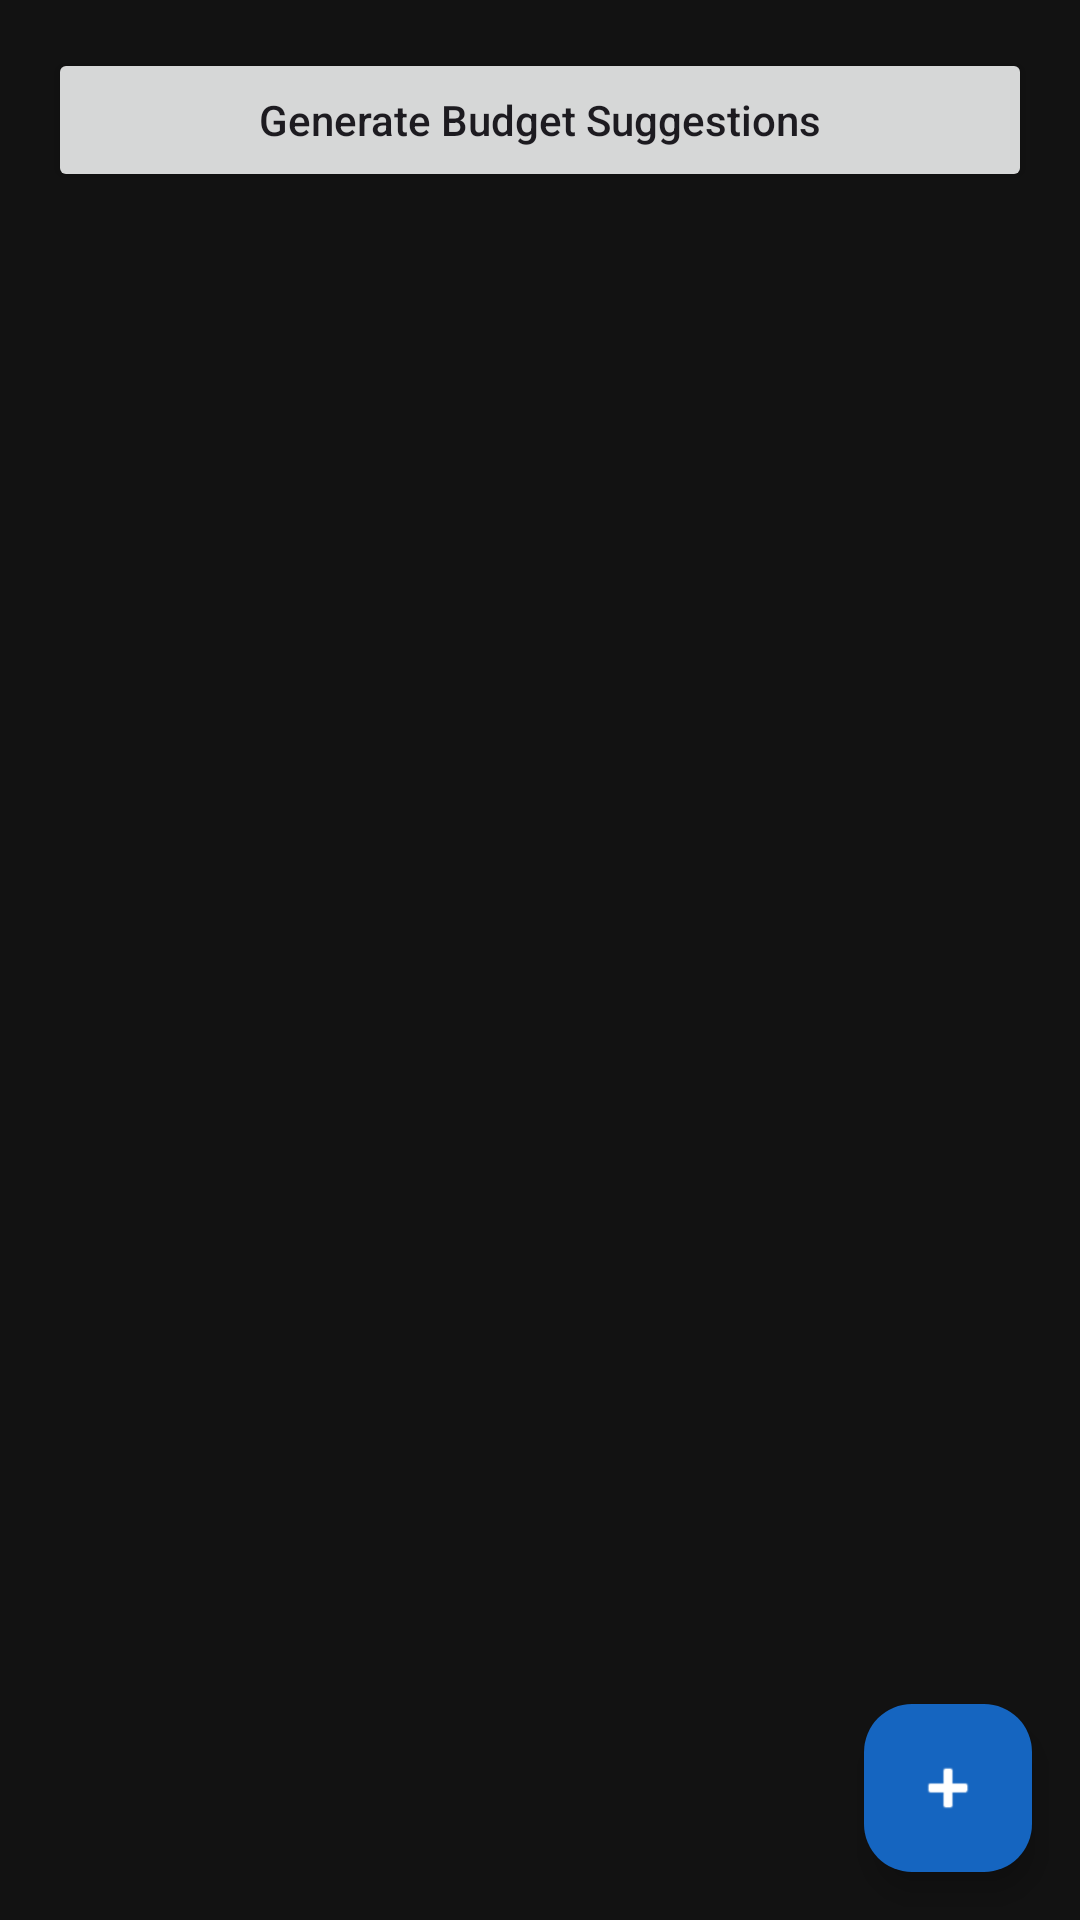

Named icons in this screenshot (1080px x 1920px) and their bounding boxes, (x1, y1, x2, y2):
Add budget: (864, 1704, 1032, 1872)
